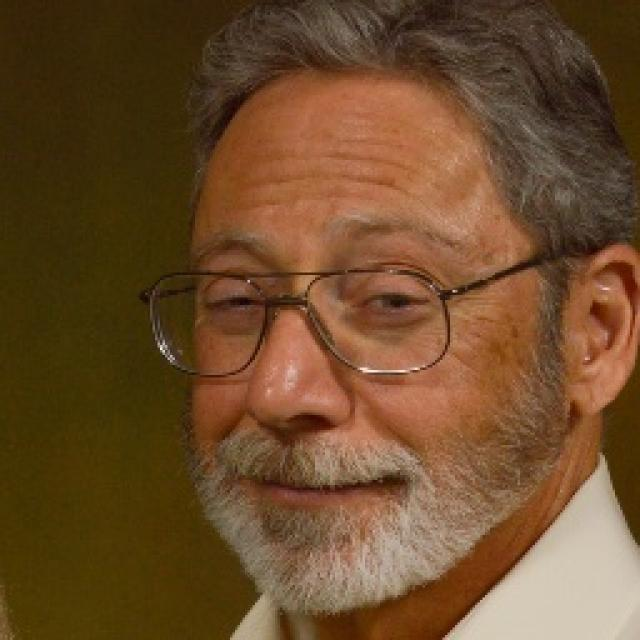earlobe: (570, 243, 640, 420)
